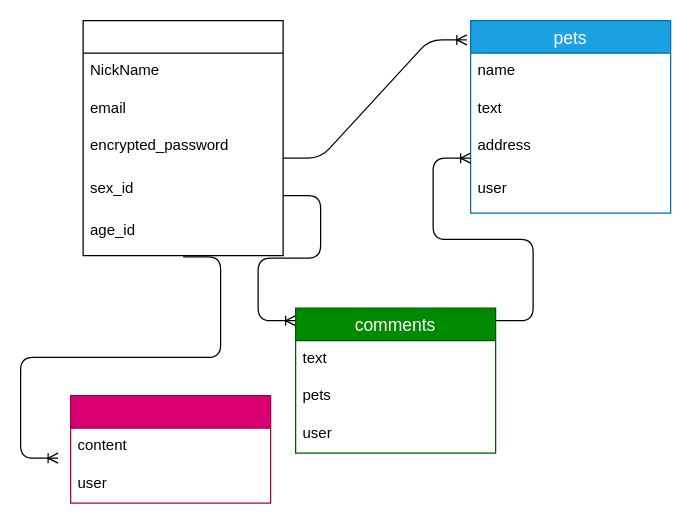
Image size: 691x524. Some labels were removed from this diagram. The box of each missing label's shape, as (x1, y1, x2, y2) in pixels:
messages: (69, 394, 271, 503)
users: (82, 19, 283, 256)
